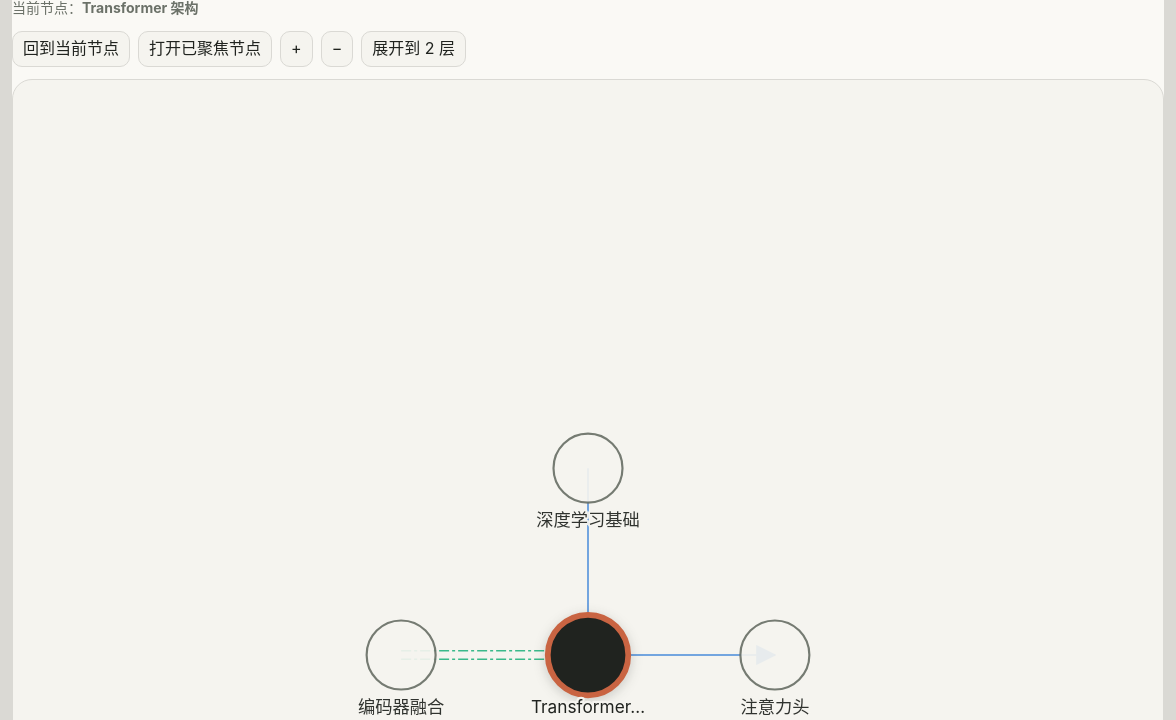
Test case: GraphCanvas › 展开时将 maxDepth 加一，新增层加载后可收缩
Later steps or results of the test are not shown.
Expected: the element with test id "graph-node-child" is shown, [740,696,809,716]
Click the button with test id "graph-expand": (414, 49) [361,31,466,67]
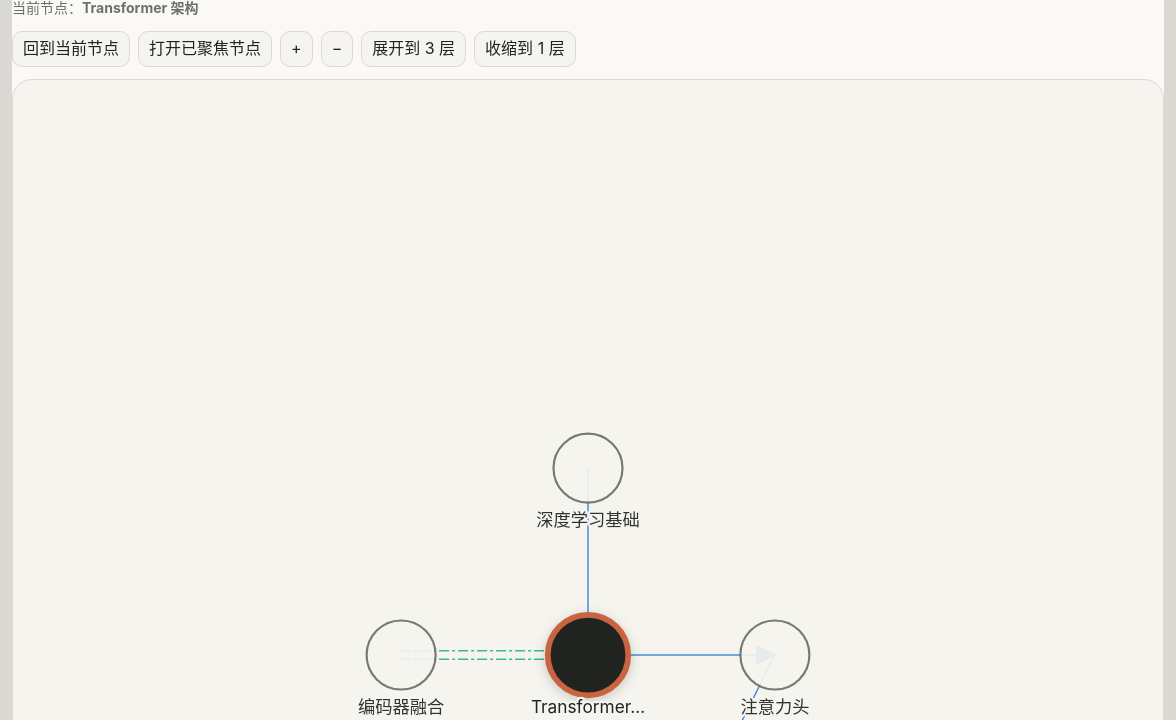
Expected: the button with test id "graph-collapse" reads "收缩到 1 层", [474,31,576,67]
